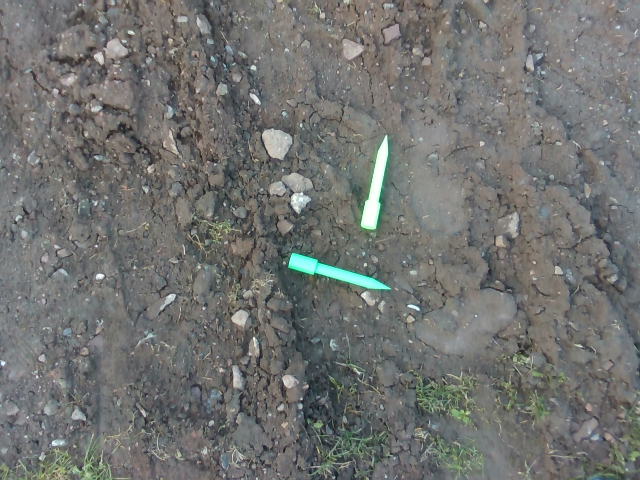Probe: (285, 250, 400, 293), (358, 131, 392, 237)
